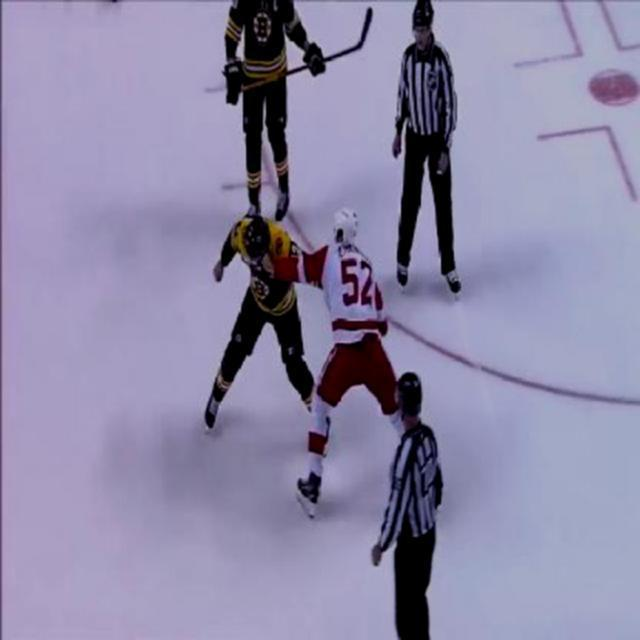fight: (207, 208, 390, 520)
